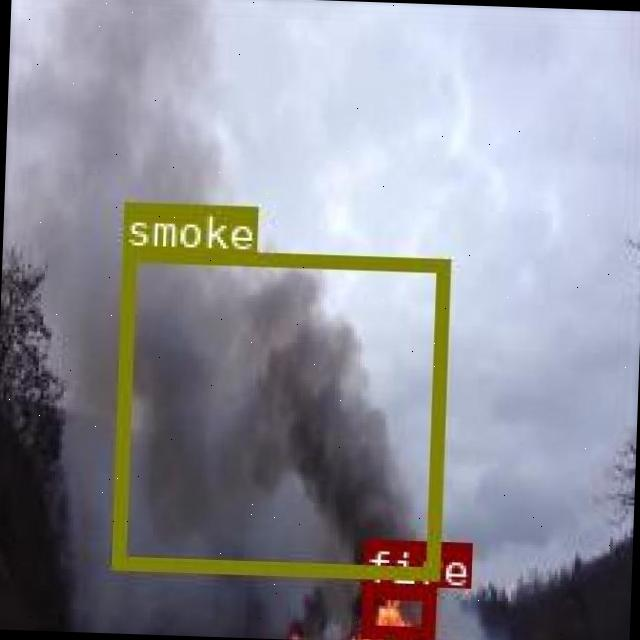fire: (358, 583, 431, 637)
smoke: (110, 246, 448, 578)
